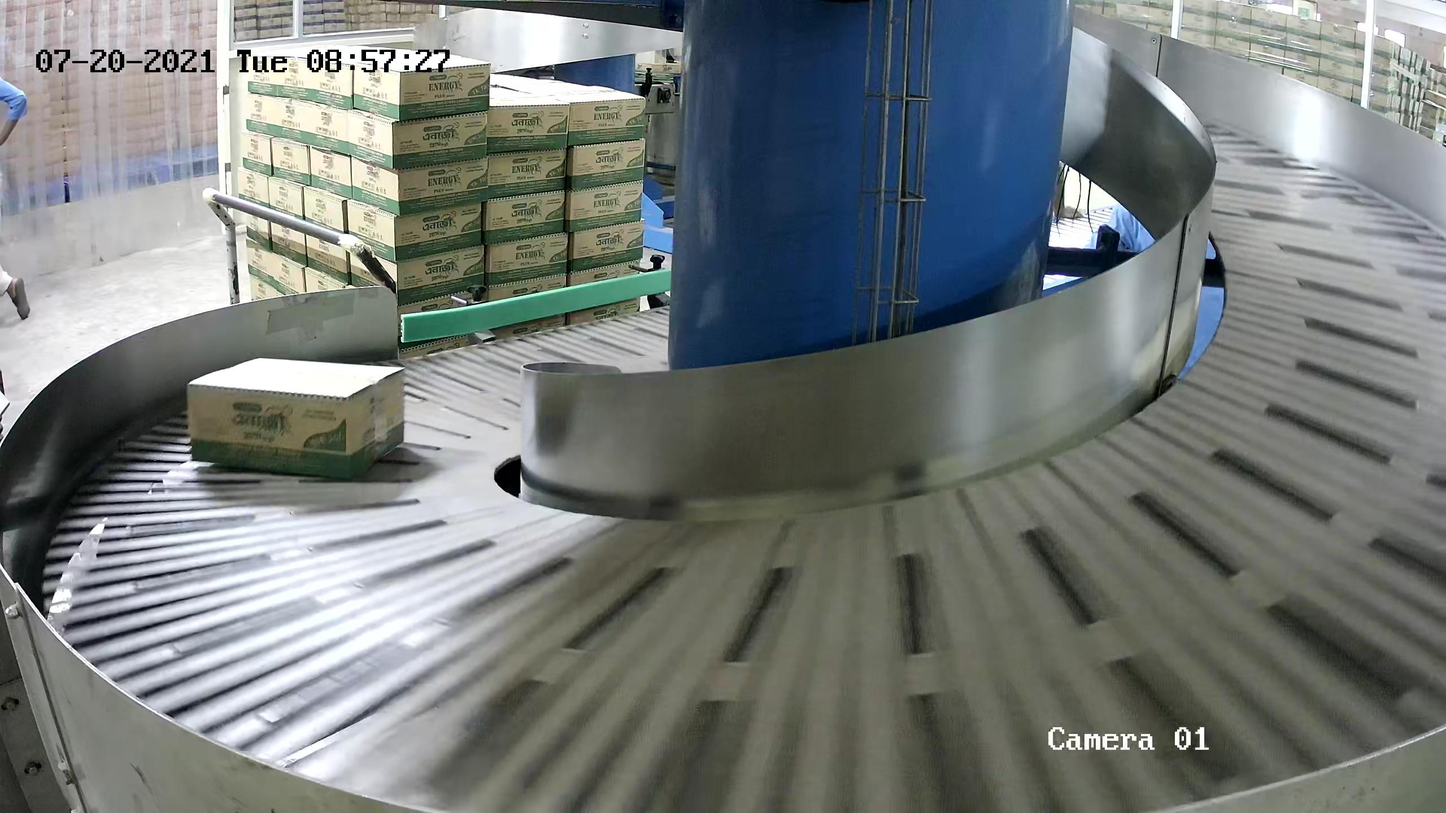Box: (185, 355, 408, 483)
